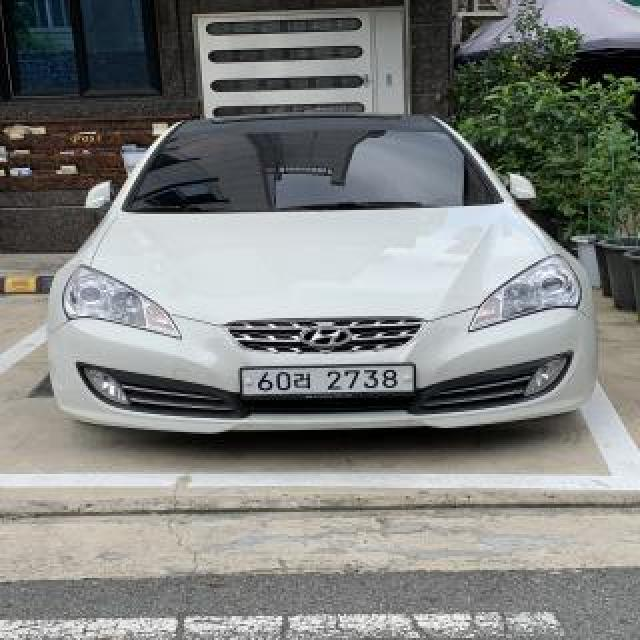car: (42, 109, 602, 440)
illegal_plate: (237, 362, 416, 406)
